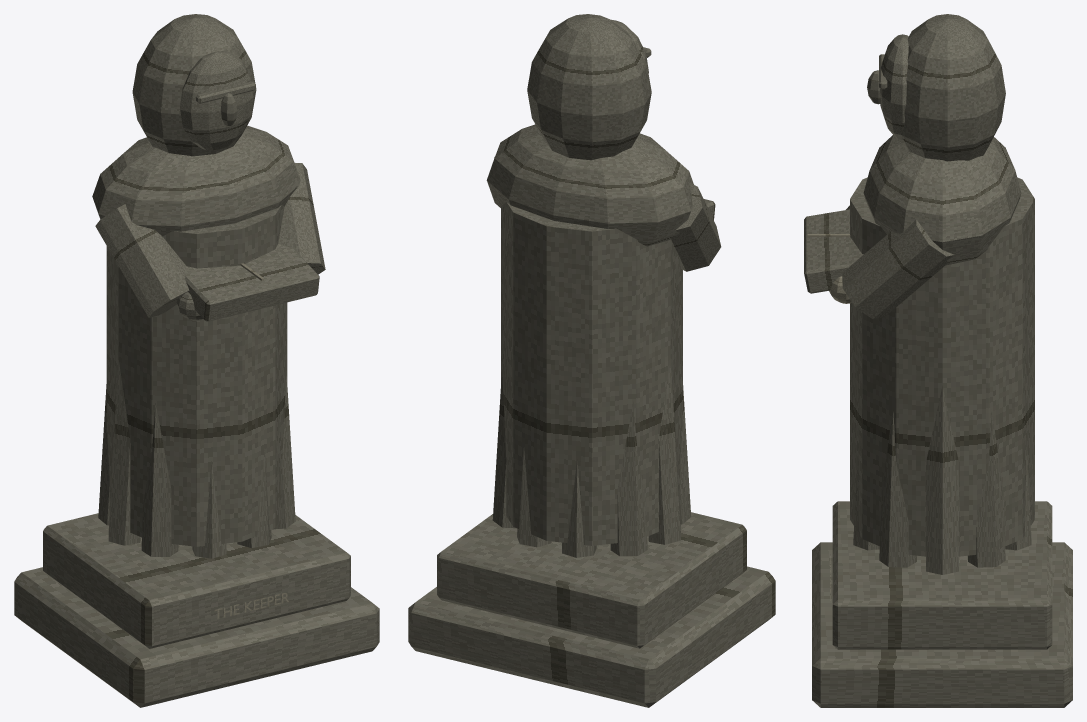
File: level_castle_founder_statue.glb
3 renders of one model, left to right at view 1: azimuth 30°, elevation 25°; view 2: azimuth 150°, elevation 25°; view 3: azimuth 270°, elevation 25°, orthographic. The views are drawn at different scales.
Parts seen in each view (by area): view 1: Folded robe mass, Statue plinth die, Statue plinth foot, Shoulder mantle, Hood, Stone codex, Mantle sleeve, Carved face, Carved cloak fold.006, Carved cloak fold.005, Mantle sleeve.001, Carved cloak fold.009 (+3 smaller); view 2: Folded robe mass, Statue plinth die, Statue plinth foot, Shoulder mantle, Hood, Carved cloak fold.004, Carved cloak fold.005, Mantle sleeve, Carved cloak fold.001, Carved cloak fold.003, Carved cloak fold.002, Carved cloak fold.006; view 3: Folded robe mass, Statue plinth die, Statue plinth foot, Shoulder mantle, Hood, Mantle sleeve.001, Carved cloak fold, Stone codex, Carved cloak fold.009, Carved cloak fold.001, Carved face, Carved cloak fold.008 (+1 smaller).
Part boxes in pixels (bbox=[...]): Folded robe mass: bbox=[106, 205, 287, 546]; Statue plinth die: bbox=[43, 513, 350, 648]; Statue plinth foot: bbox=[14, 567, 379, 707]; Shoulder mantle: bbox=[92, 125, 300, 236]; Hood: bbox=[132, 14, 256, 156]; Stone codex: bbox=[184, 244, 319, 321]; Mantle sleeve: bbox=[95, 204, 189, 317]; Carved face: bbox=[180, 51, 253, 150]; Carved cloak fold.006: bbox=[141, 403, 178, 556]; Carved cloak fold.005: bbox=[108, 360, 140, 545]; Mantle sleeve.001: bbox=[278, 162, 325, 274]; Carved cloak fold.009: bbox=[272, 371, 295, 529]; Folded robe mass: bbox=[501, 202, 682, 545]; Statue plinth die: bbox=[437, 512, 746, 648]; Statue plinth foot: bbox=[408, 566, 775, 707]; Shoulder mantle: bbox=[486, 124, 693, 246]; Hood: bbox=[527, 14, 651, 160]; Carved cloak fold.004: bbox=[610, 401, 647, 556]; Carved cloak fold.005: bbox=[648, 358, 680, 544]; Mantle sleeve: bbox=[670, 182, 721, 271]; Carved cloak fold.001: bbox=[492, 370, 516, 528]; Carved cloak fold.003: bbox=[562, 459, 596, 557]; Carved cloak fold.002: bbox=[517, 447, 551, 547]; Carved cloak fold.006: bbox=[679, 385, 691, 524]; Folded robe mass: bbox=[850, 177, 1034, 556]; Statue plinth die: bbox=[832, 501, 1052, 649]; Statue plinth foot: bbox=[812, 542, 1072, 707]; Shoulder mantle: bbox=[863, 135, 1021, 265]; Hood: bbox=[901, 14, 1005, 161]; Mantle sleeve.001: bbox=[842, 219, 954, 319]; Carved cloak fold: bbox=[926, 386, 958, 574]; Stone codex: bbox=[804, 209, 863, 293]; Carved cloak fold.009: bbox=[879, 409, 916, 567]; Carved cloak fold.001: bbox=[968, 409, 1005, 567]; Carved face: bbox=[880, 34, 908, 139]; Carved cloak fold.008: bbox=[853, 447, 879, 550].
Size of the model in its own units: 0.85 by 2.03 by 0.7833.
2 materials, 2 textured.
